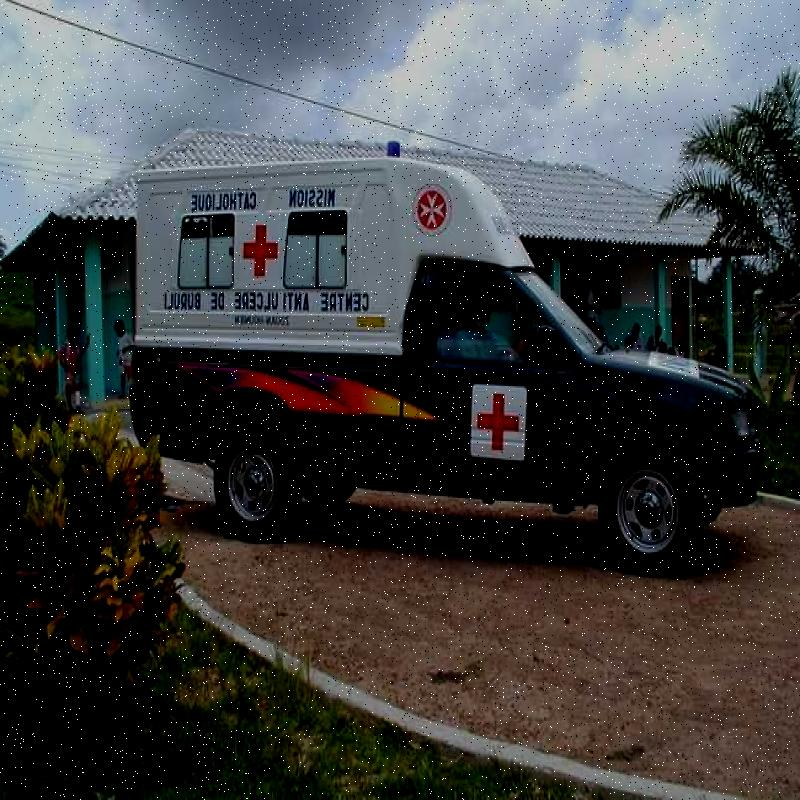AmbulanceSiren: (380, 130, 413, 167)
